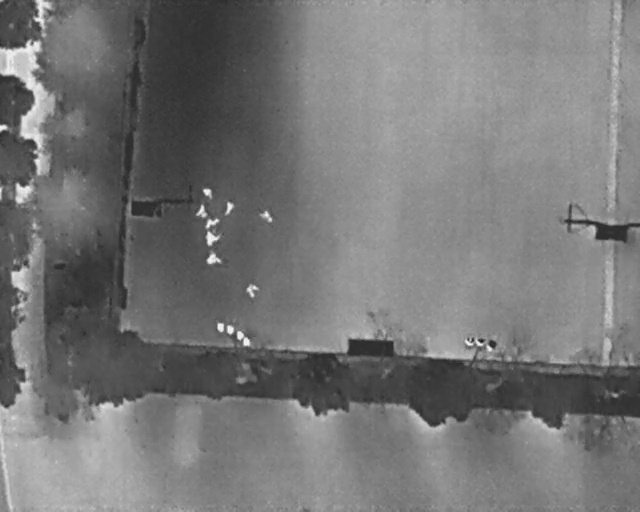Person: (252, 206, 283, 238), (201, 213, 222, 232), (204, 229, 222, 248), (204, 251, 223, 267), (221, 199, 236, 217), (245, 283, 260, 300), (195, 203, 209, 218), (201, 185, 214, 201)
